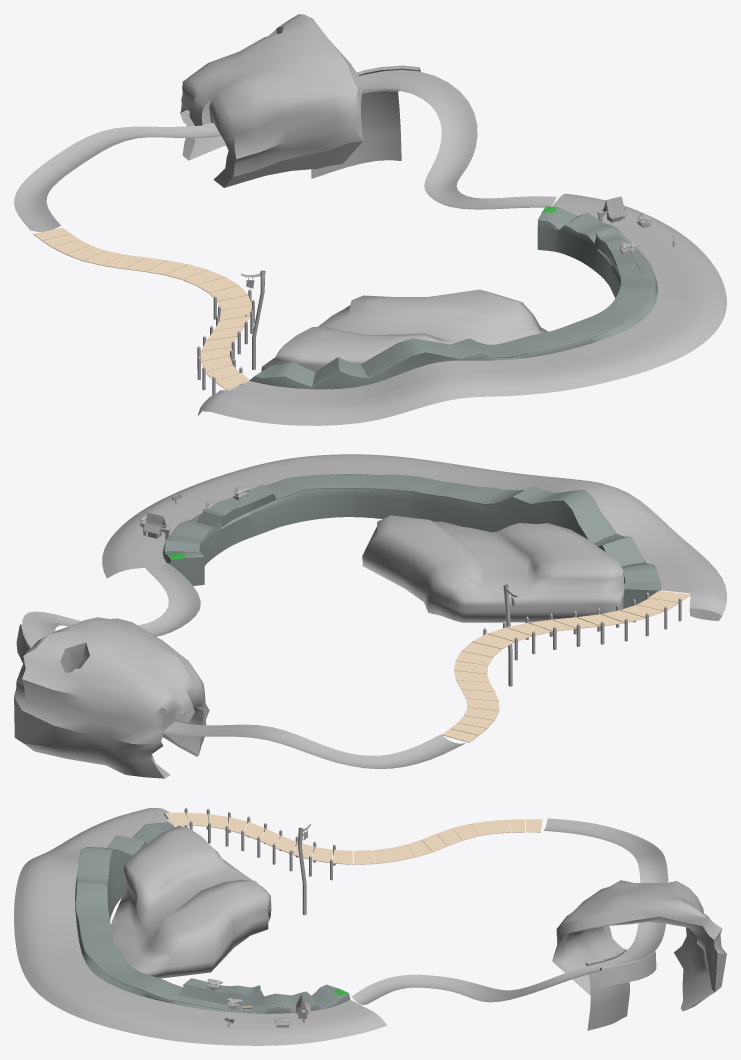
The model's file is base_pistasecreta2.fbx.
The picture shows the model from 3 angles, top to bottom: view 1: azimuth 30°, elevation 25°; view 2: azimuth 150°, elevation 25°; view 3: azimuth 270°, elevation 25°; orthographic projection. The views are drawn at different scales.
Visible parts, largest first — view 1: polySurface16, polySurface20, polySurface8, fondorocoso1, polySurface18, polySurface10, muelle, polySurface19; view 2: polySurface16, polySurface8, fondorocoso1, polySurface20, polySurface10, polySurface18, muelle; view 3: fondorocoso1, polySurface20, polySurface8, polySurface16, polySurface10, polySurface18, muelle, polySurface19, base.
Boxes of the visible parts, <box> form: polySurface16: <box>180,14,362,187</box>; polySurface20: <box>198,193,726,425</box>; polySurface8: <box>249,206,657,389</box>; fondorocoso1: <box>261,289,548,371</box>; polySurface18: <box>14,70,556,231</box>; polySurface10: <box>229,201,690,402</box>; muelle: <box>33,227,251,390</box>; polySurface19: <box>311,65,420,178</box>; polySurface16: <box>14,617,209,778</box>; polySurface8: <box>162,474,660,608</box>; fondorocoso1: <box>362,515,624,622</box>; polySurface20: <box>102,454,726,621</box>; polySurface10: <box>139,461,690,593</box>; polySurface18: <box>22,563,465,768</box>; muelle: <box>442,591,690,742</box>; fondorocoso1: <box>111,826,271,978</box>; polySurface20: <box>14,808,387,1045</box>; polySurface8: <box>75,821,350,1013</box>; polySurface16: <box>552,880,726,1011</box>; polySurface10: <box>47,813,364,1024</box>; polySurface18: <box>351,818,668,1004</box>; muelle: <box>164,812,542,864</box>; polySurface19: <box>585,948,656,1030</box>; base: <box>298,827,306,915</box>.
Size of the model in its own units: 55030 by 13662 by 69442.
